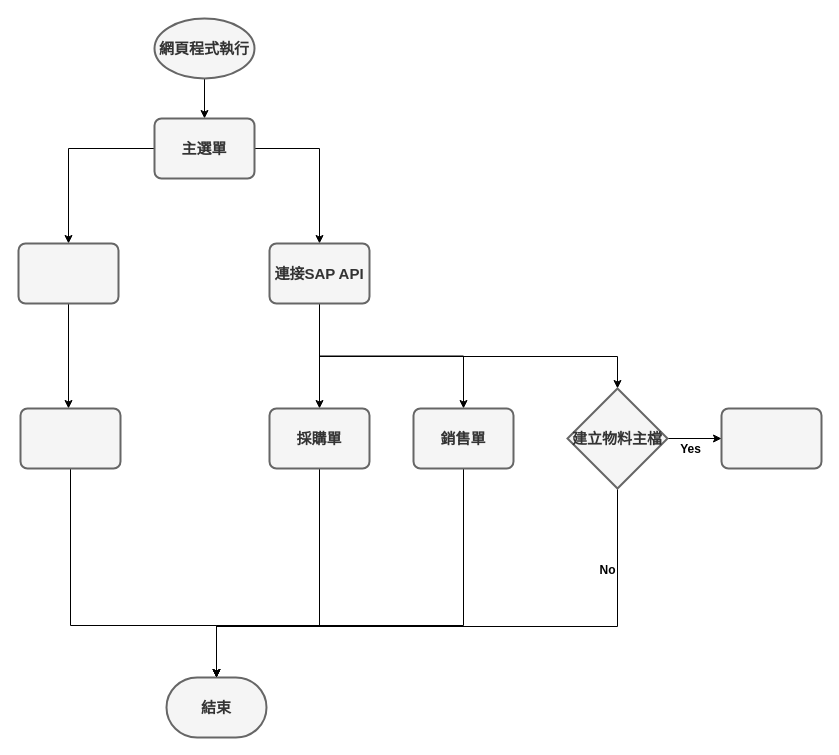
Image size: 839x755. Some labels were removed from this diagram. Here are the shapes that lost their labels. From the top down, the centre of each, then its label:
[68,273]: 連接第三方API
[70,438]: 庫存
[771,438]: 物料主檔
